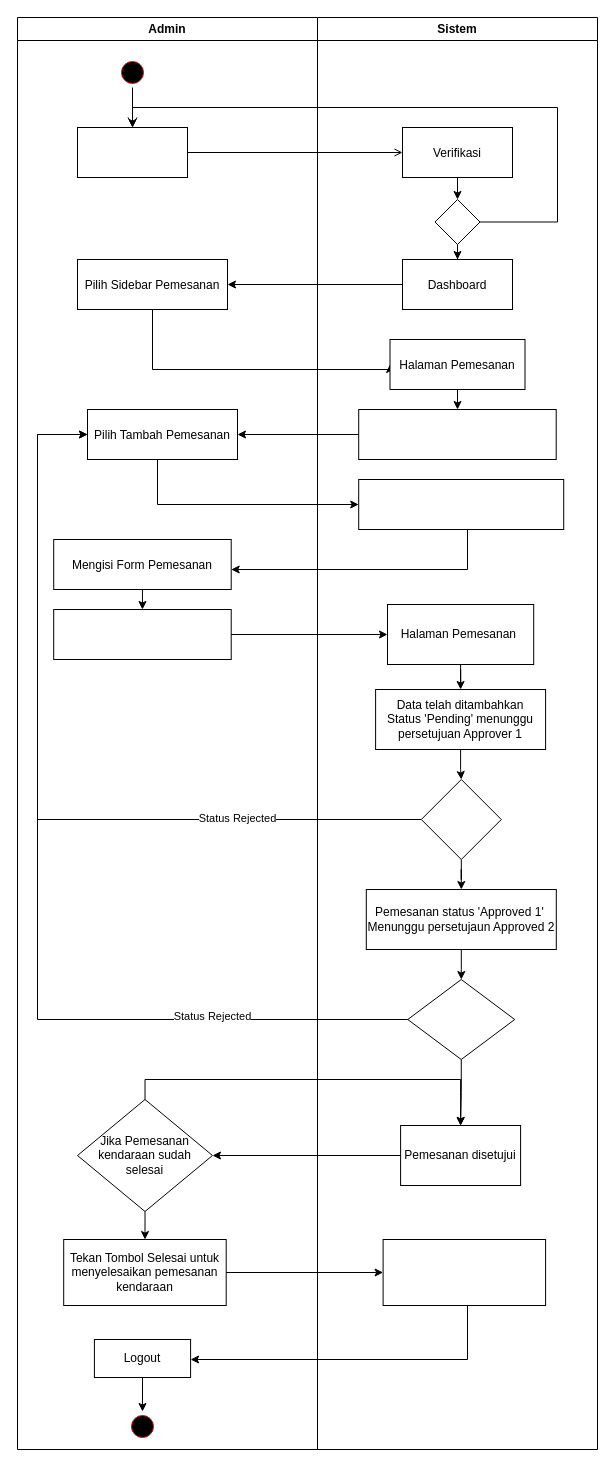
Image size: 615x1467. Some labels were removed from this diagram. The shapes that lost their labels are listed below. From the top down, each one's centre as x and y in pixels, then its label:
point 132,152: Login
point 457,434: Menampilkan Daftar Pemesanan
point 461,504: Halaman Form Tambah Pemesanan
point 142,634: Submit
point 460,819: Jika status Approved 1
point 461,1019: Jika status Approved 2
point 464,1272: Pemesanan Telah Selesai
